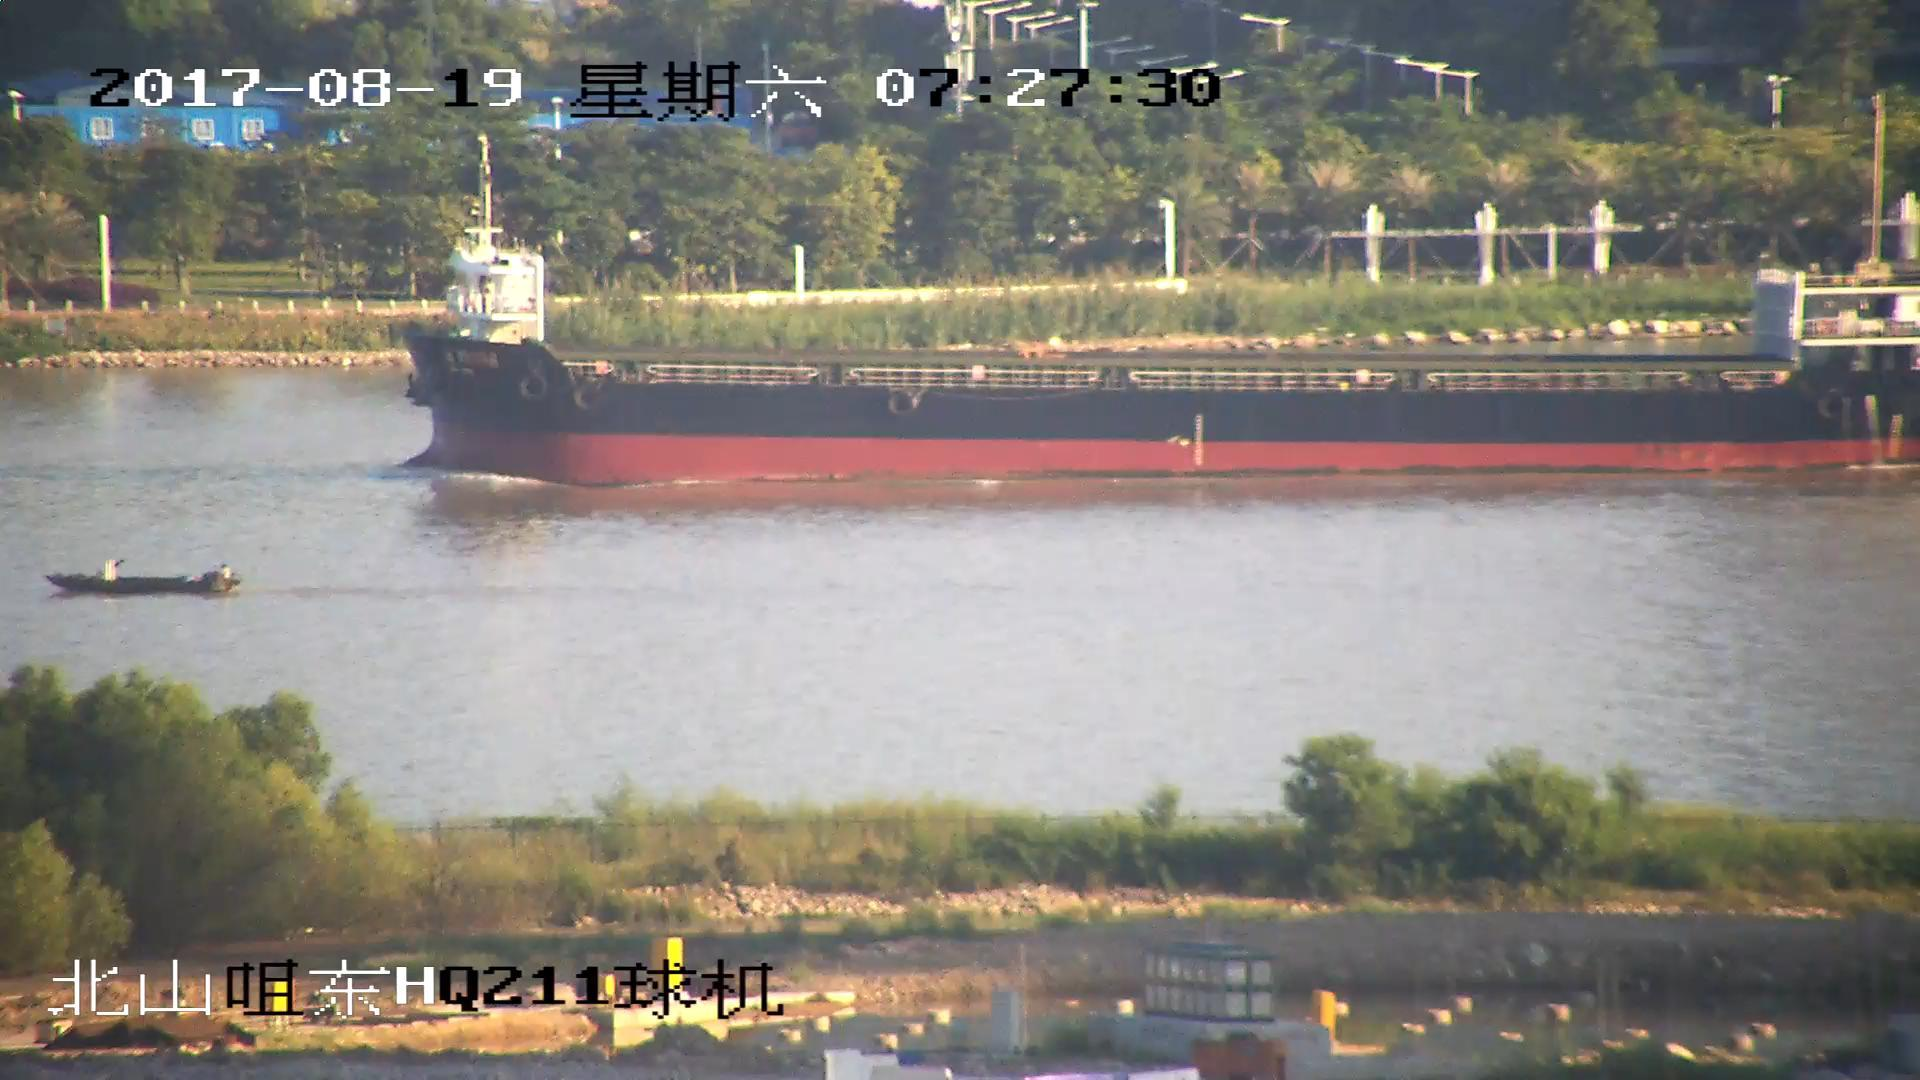Ship: (406, 214, 1920, 476), (54, 553, 237, 597)
